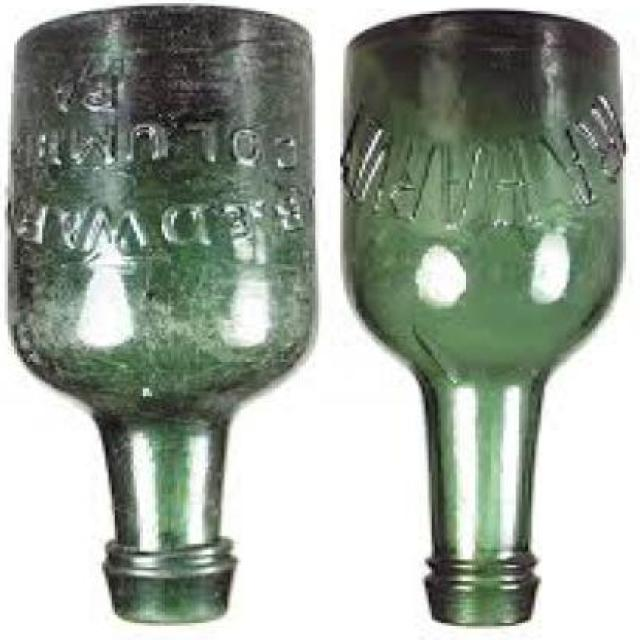kaca: (18, 11, 322, 626), (343, 11, 632, 626)
